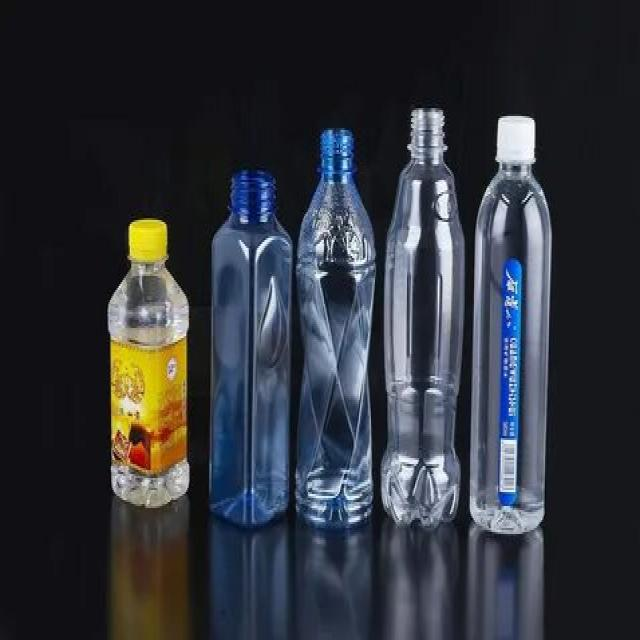blue: (297, 130, 375, 527), (210, 170, 290, 530)
